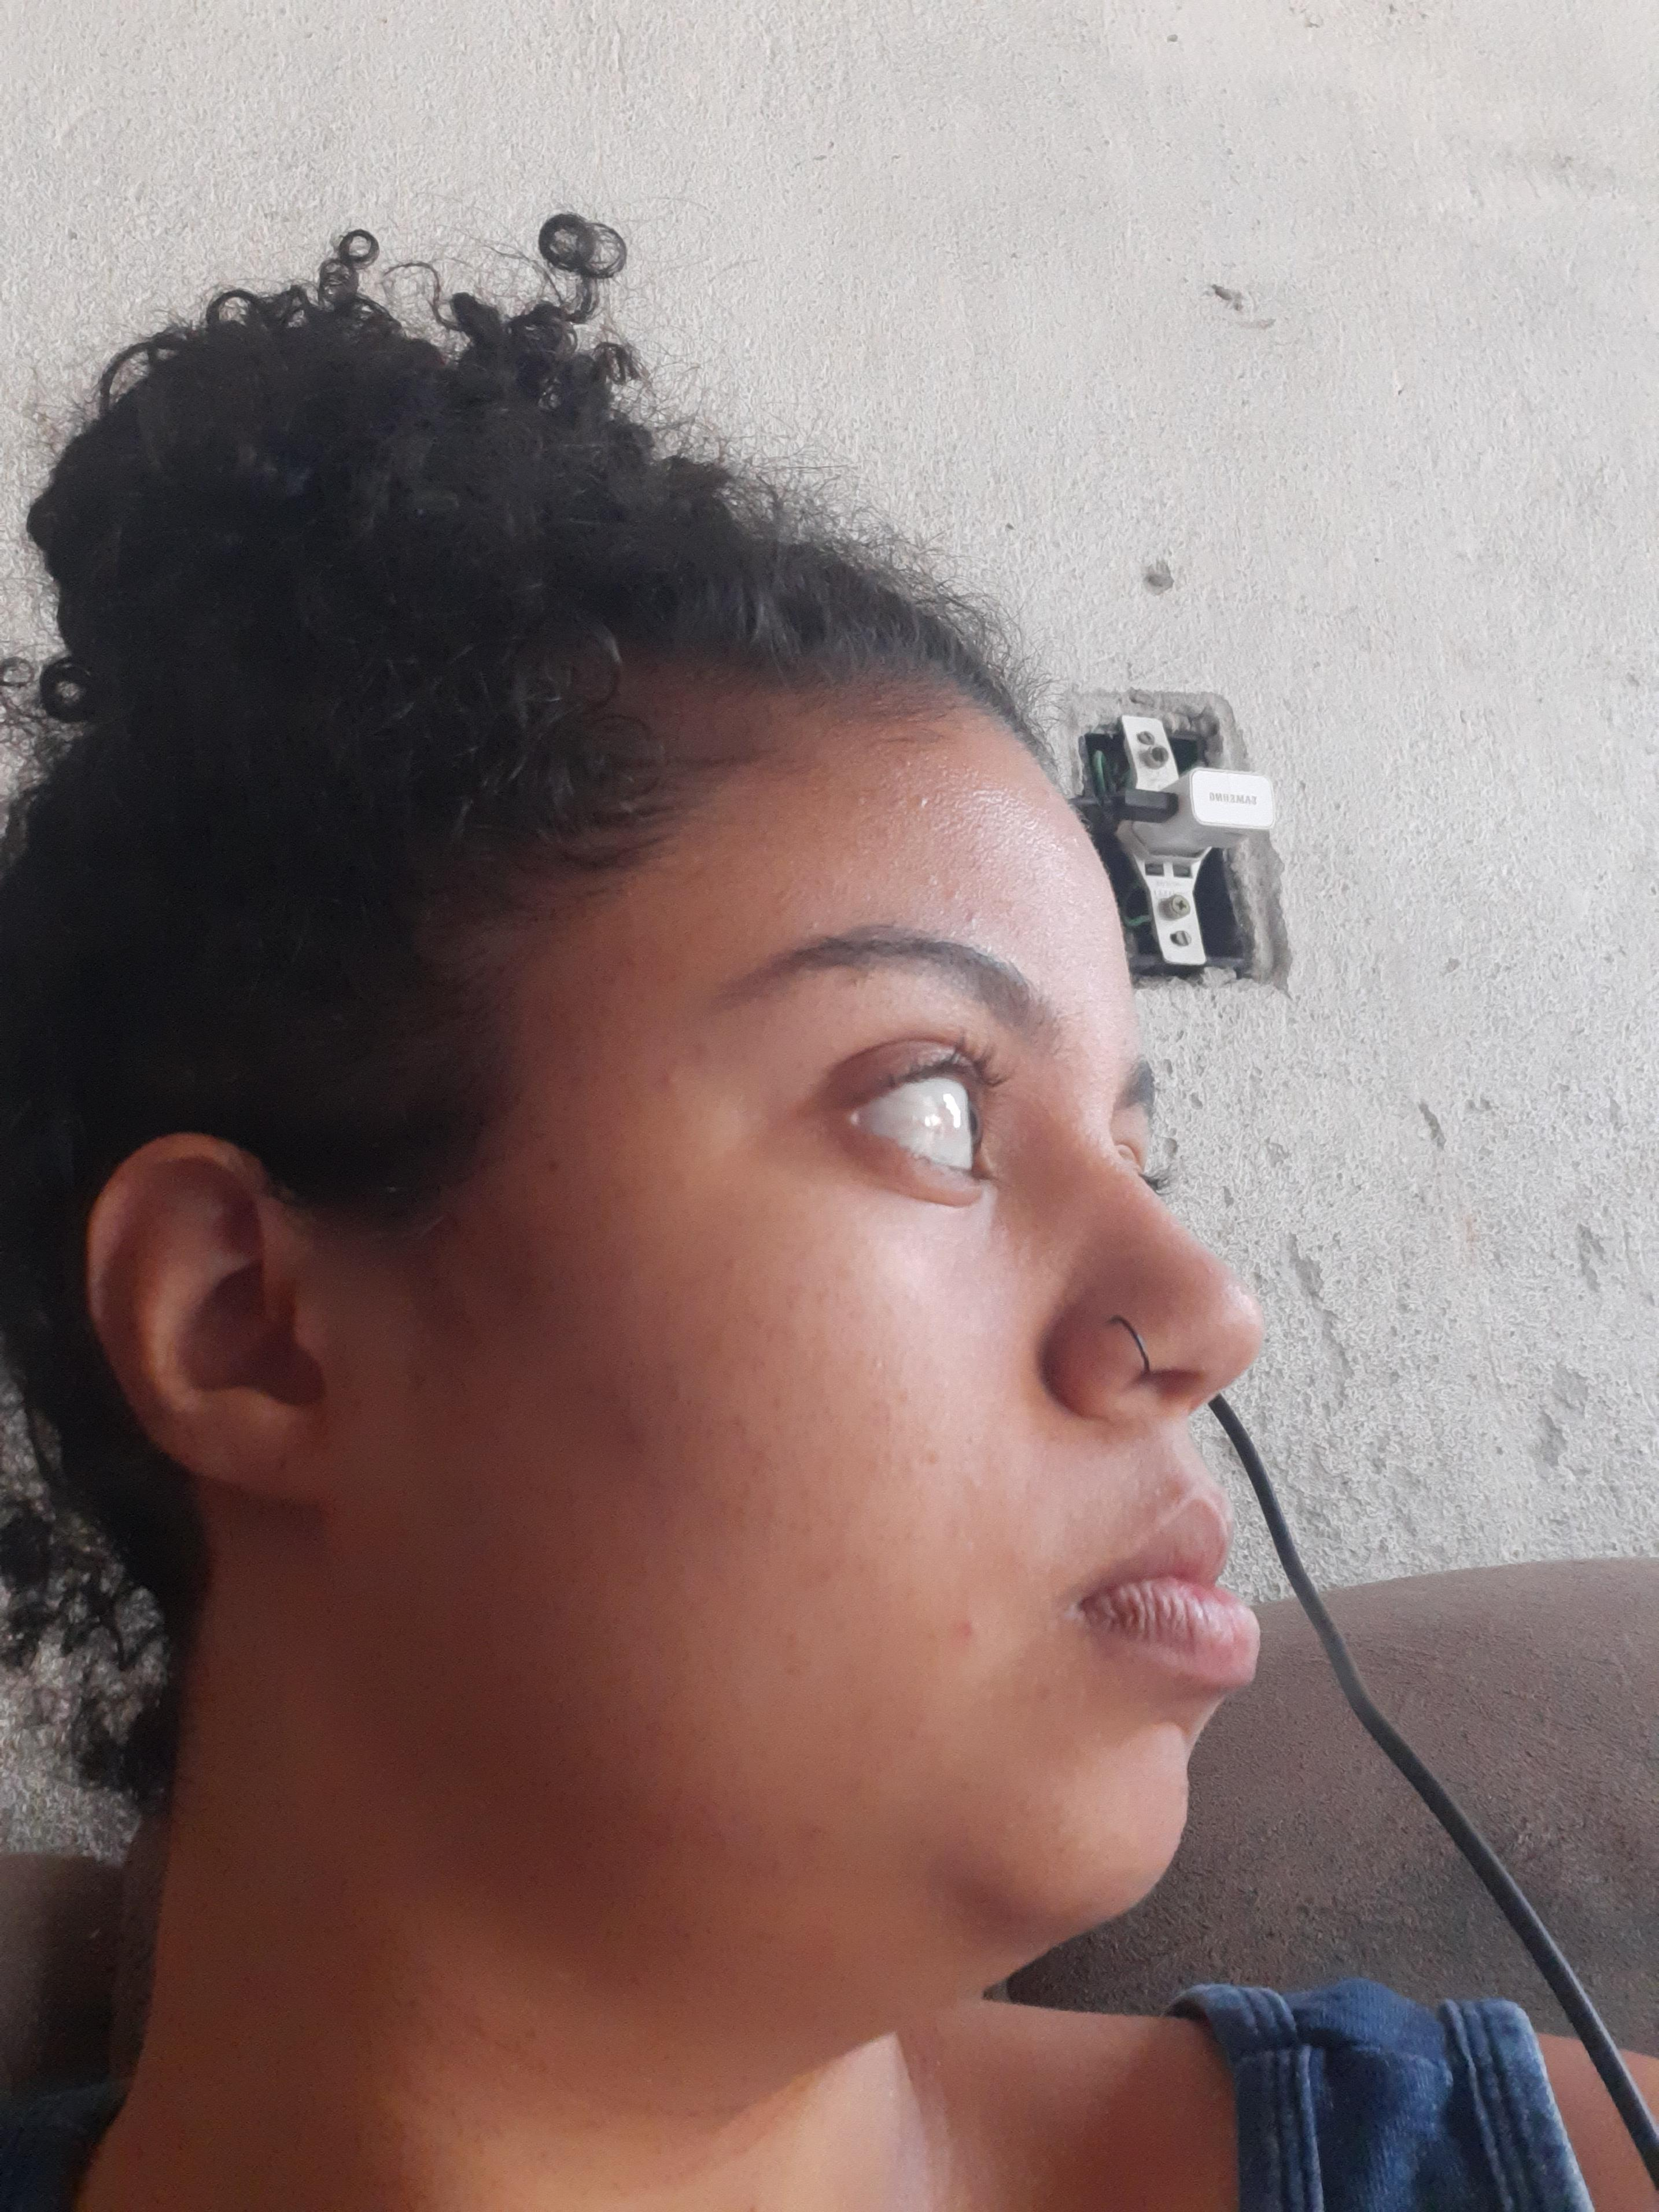Acne: (659, 1362, 697, 1413), (943, 1609, 979, 1655), (775, 1627, 807, 1679), (749, 1851, 784, 1885), (652, 1061, 685, 1094), (917, 1439, 945, 1474), (1023, 1679, 1054, 1709), (913, 867, 941, 892), (910, 787, 932, 815), (957, 902, 979, 930), (728, 1249, 746, 1277)
